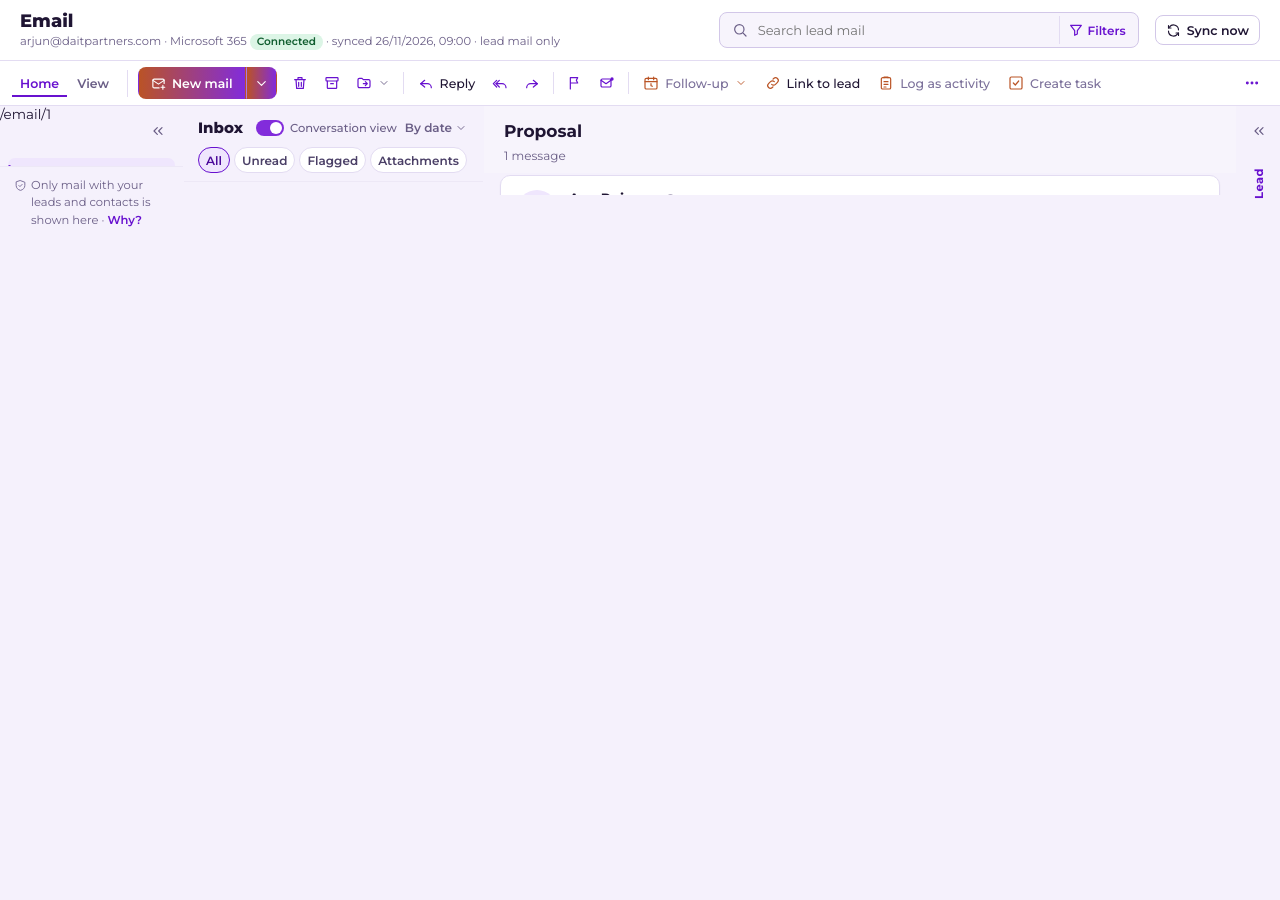
it: Email command bar, menus and shortcuts (web-mail release 2, Task 14) › Link to lead ▾: suggestions from the address link the message; a search finds leads; Unlink posts unlink
Click the button "Link to lead" at (812, 83), box [757,67,868,99]
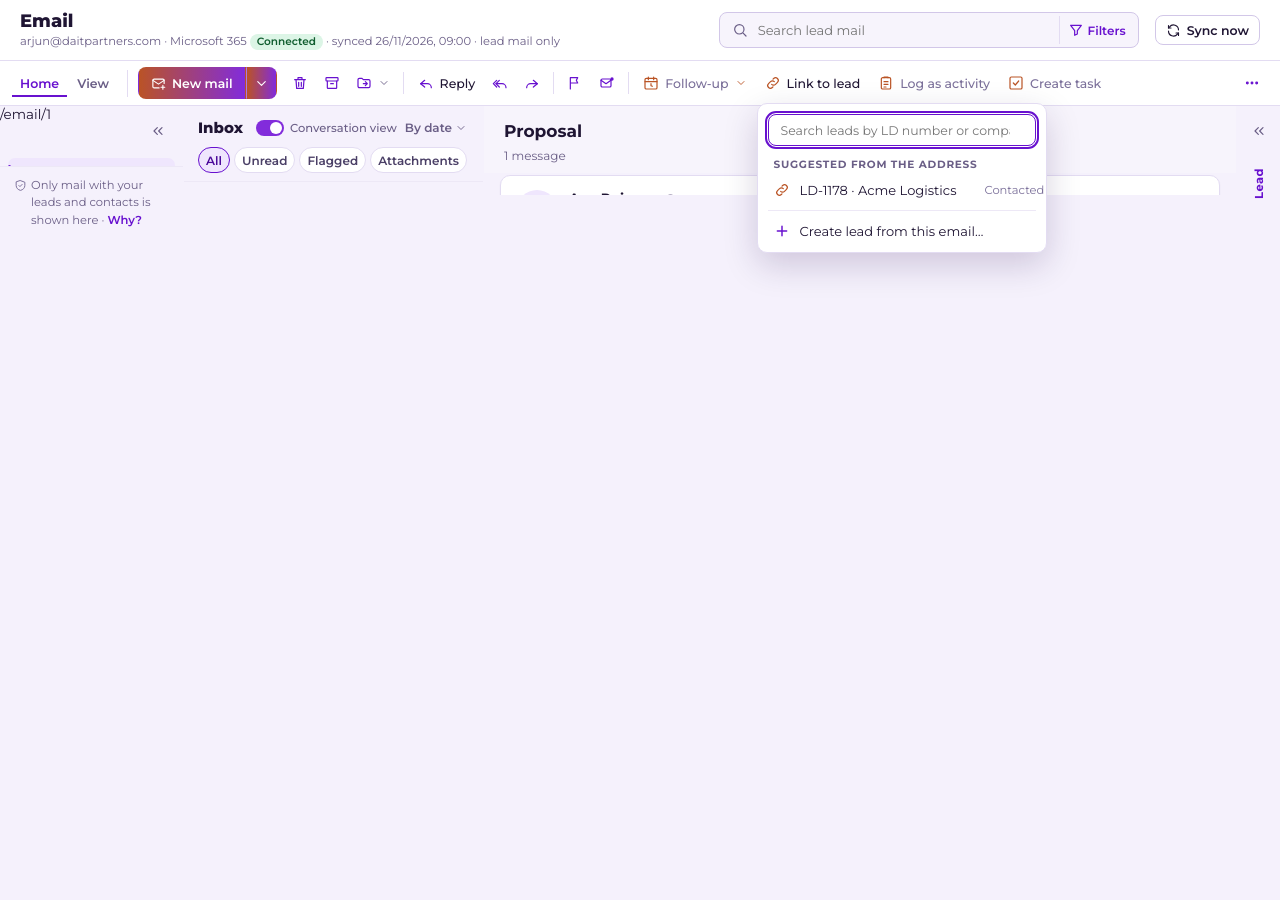
Expected: the text "Suggested from the address" is shown, [774,158,978,171]
Expected: the menu item "LD-1178 · Acme Logistics Contacted" is shown
Click the menu item "LD-1178 · Acme Logistics Contacted" at (902, 190), box [764,175,1040,205]
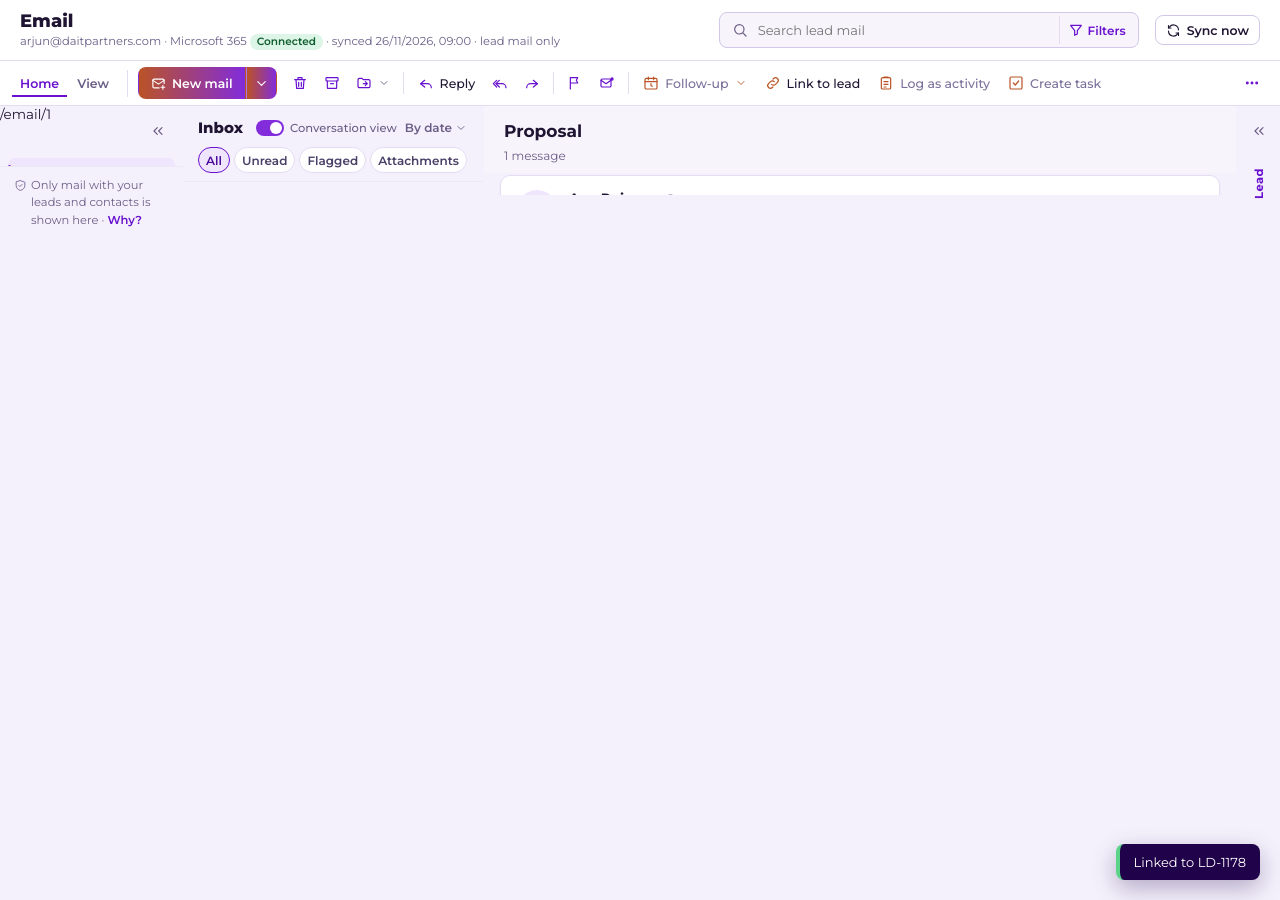
Expected: the text "Linked to LD-1178" is shown, [1116,844,1260,880]
Click the button "Link to lead" at (812, 83), box [757,67,868,99]
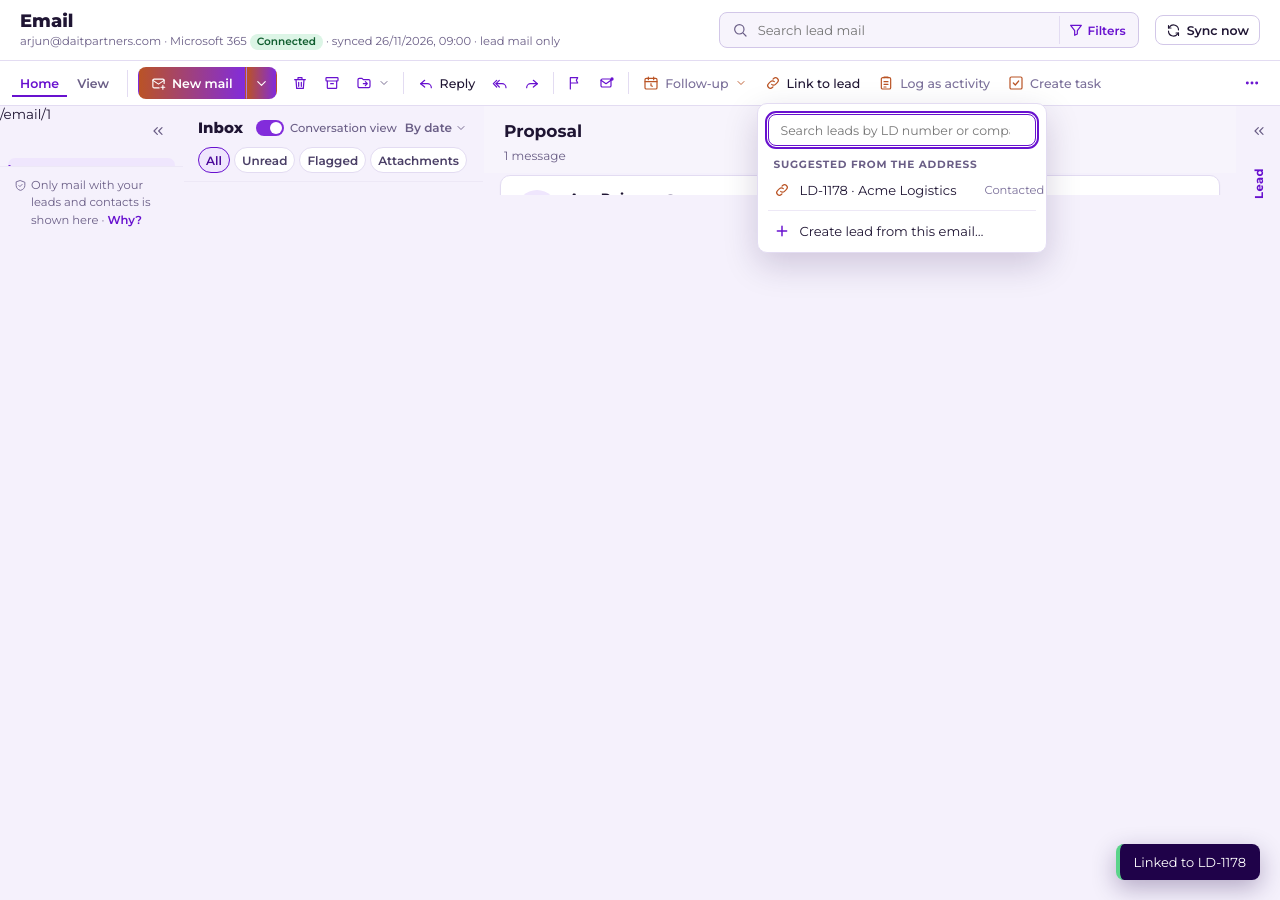
Type "orbit" into the search field with placeholder "Search leads by LD number or company" at (902, 130), box [768,114,1036,146]
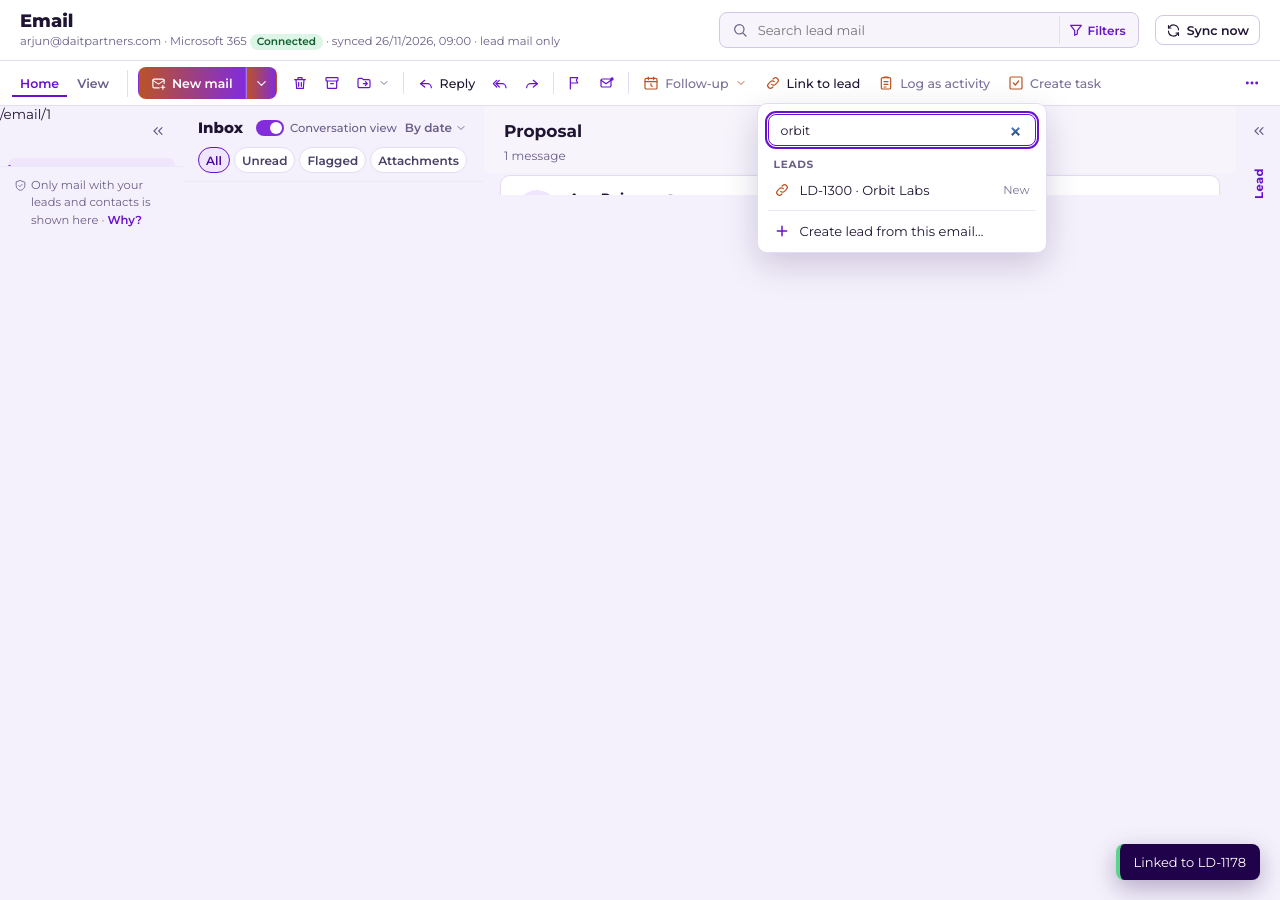
Expected: the menu item "LD-1300 · Orbit Labs New" is shown, [764,175,1040,205]
Create lead from this email… opens the existing Link email to a lead window.
Click the menu item "Create lead from this email…" at (902, 231), box [764,216,1040,246]
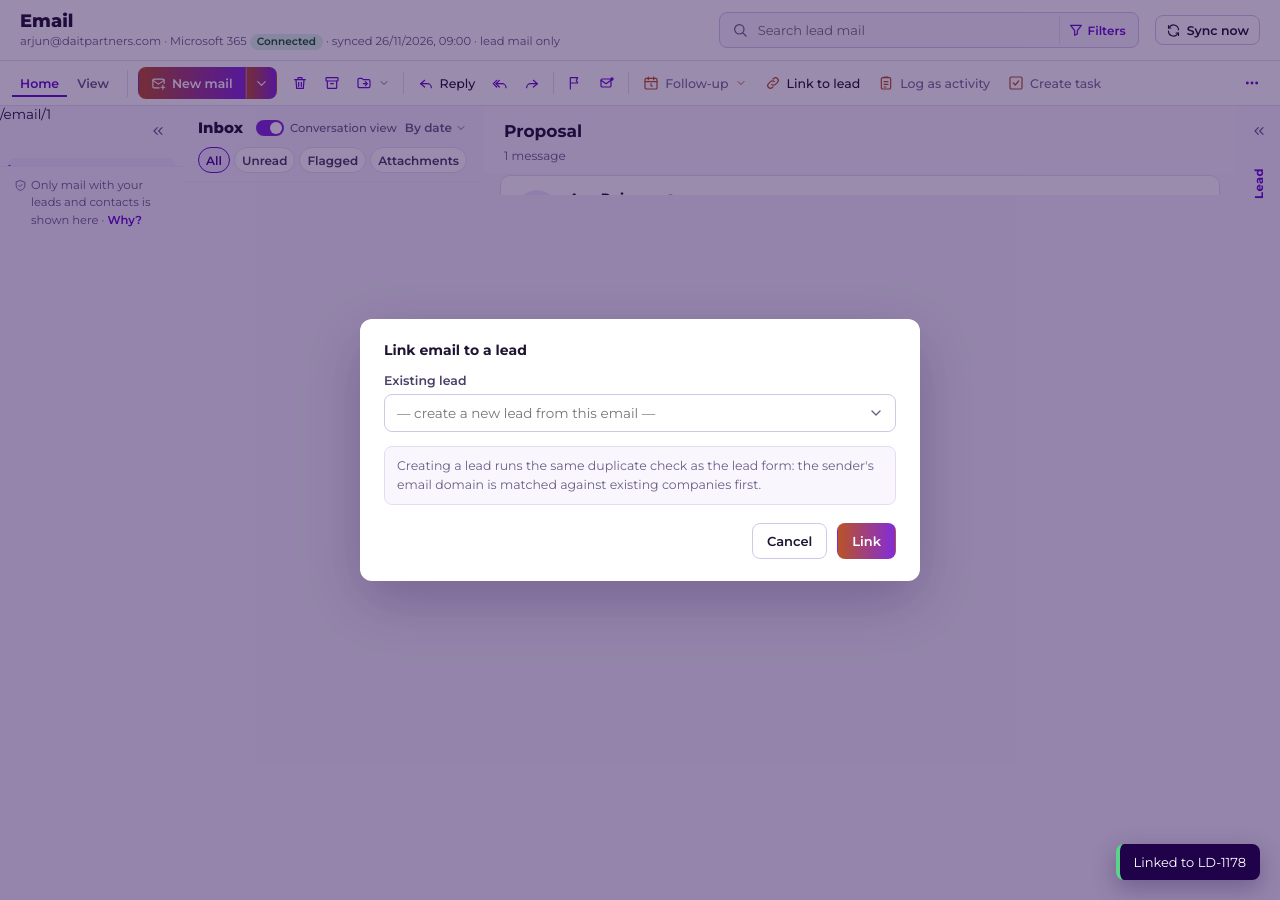
Expected: the dialog "Link email to a lead" is shown, [360,319,920,581]
